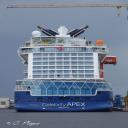cruises: (12, 25, 119, 114)
